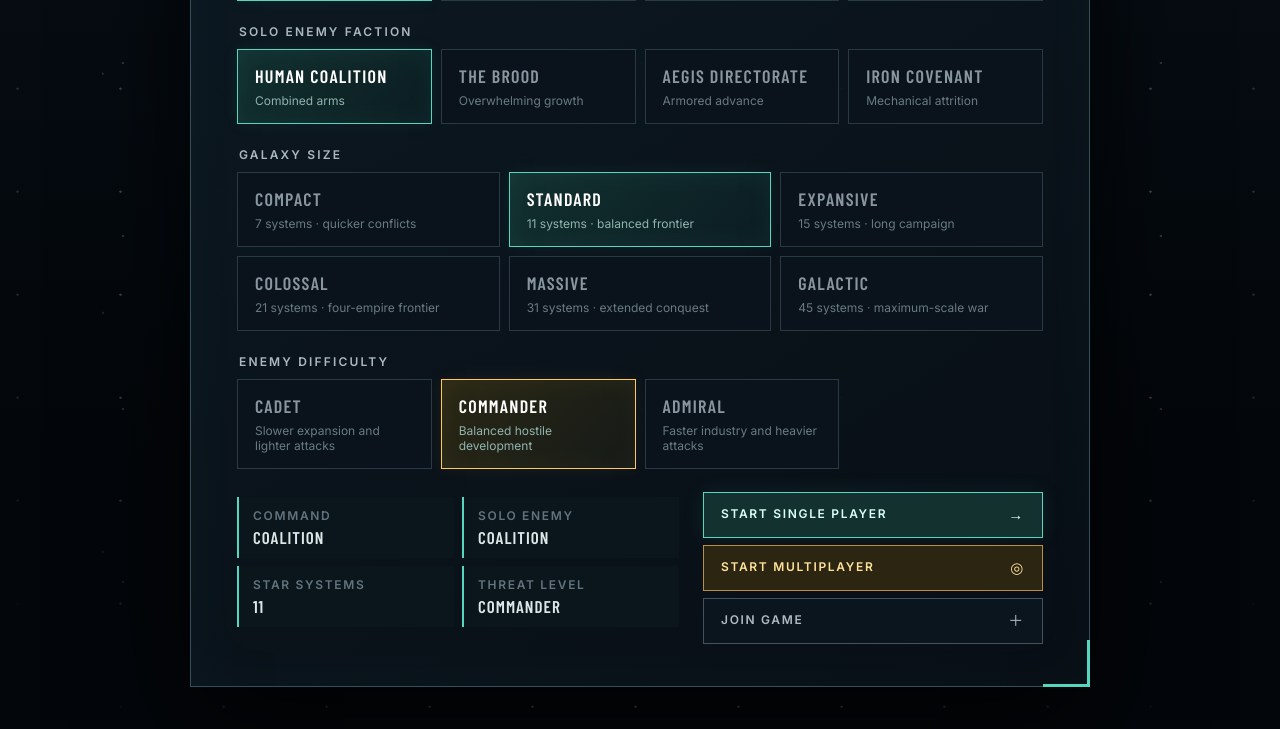
Scenario: Galactic Empires interface › puts join game below multiplayer start and accepts a six-character lobby code
This screenshot has width=1280, height=729.
(page scrolled)
Click the button "JOIN GAME ＋" at x=762, y=619, box [703,598,1043,644]
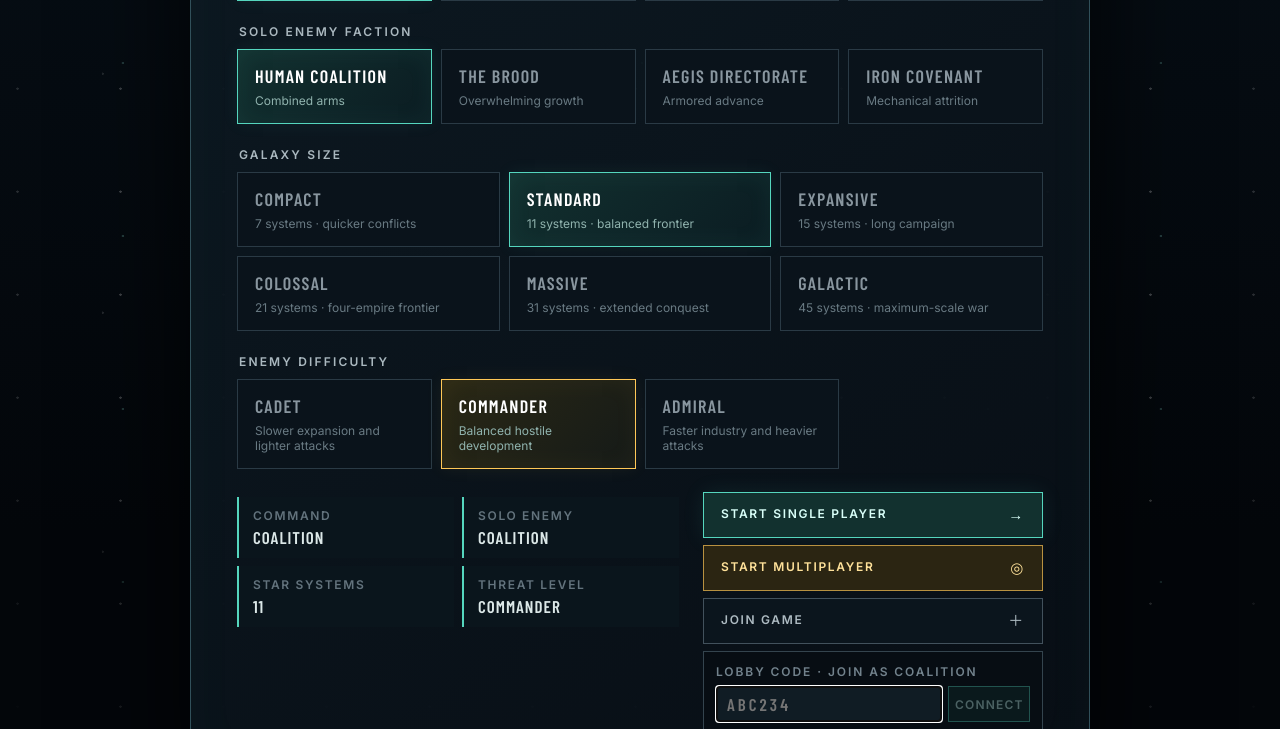
Type "ab-c23z" into the field labelled "LOBBY CODE" at x=829, y=704, box [716,686,942,722]
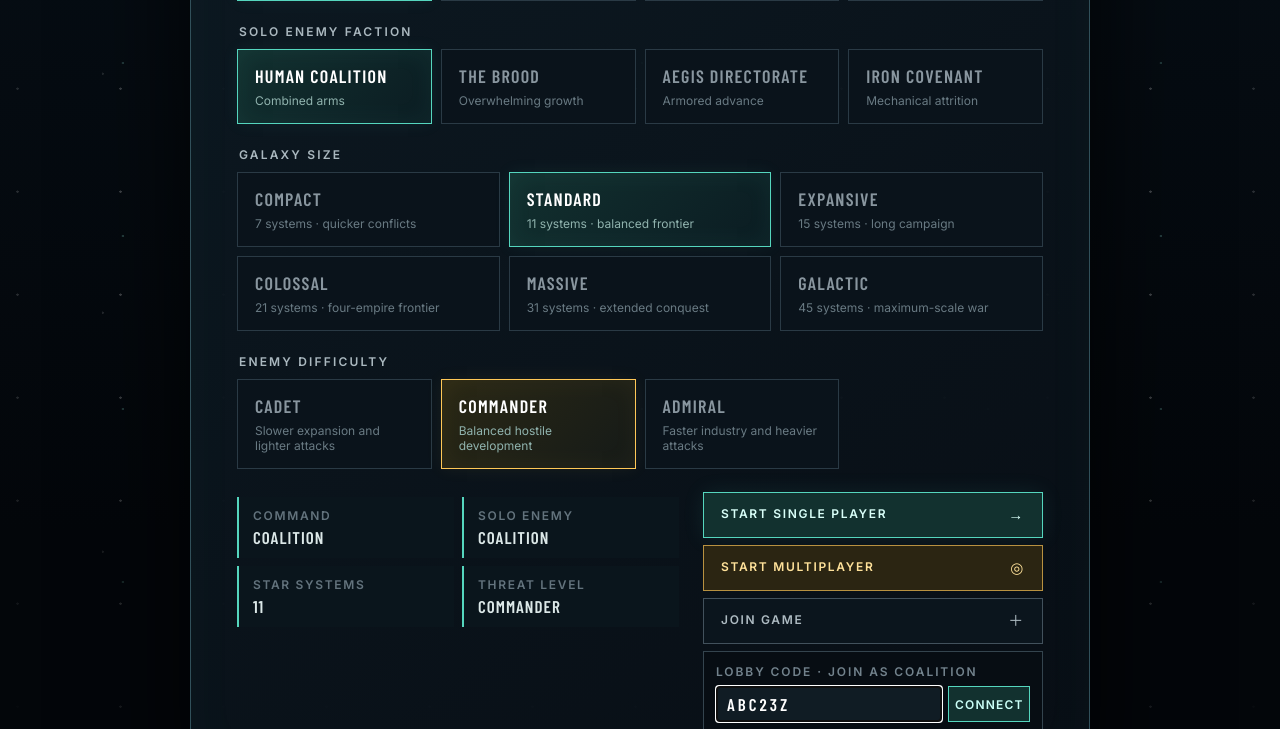
Expected: the field labelled "LOBBY CODE" holds "ABC23Z", [716,686,942,722]
Expected: the button "CONNECT" is enabled, [948,686,1030,722]
